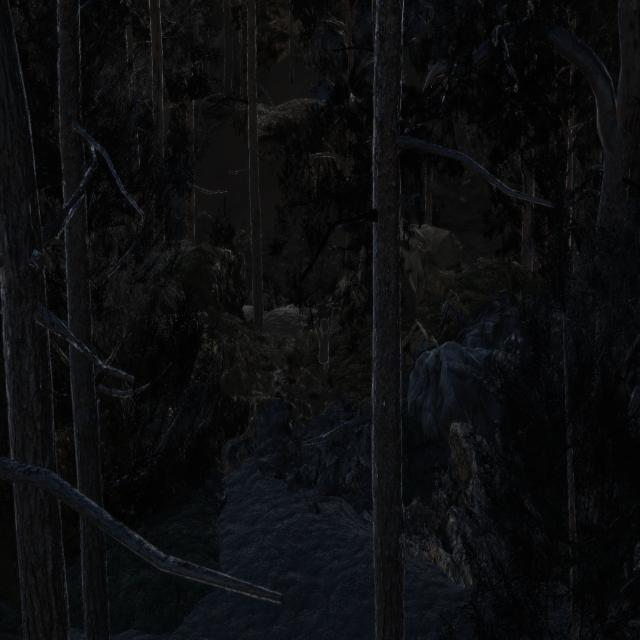Human: (307, 291, 338, 412)
